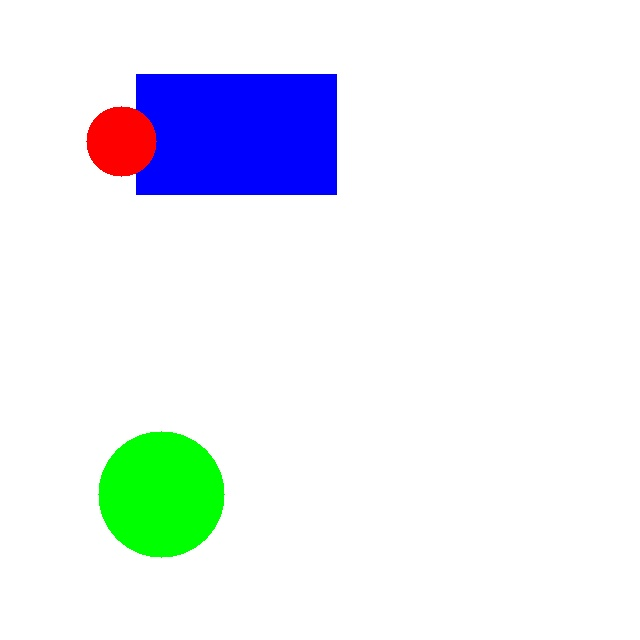cartao: (136, 74, 336, 194)
rosca_externa: (98, 431, 224, 557)
rosca_interna: (86, 106, 156, 176)
